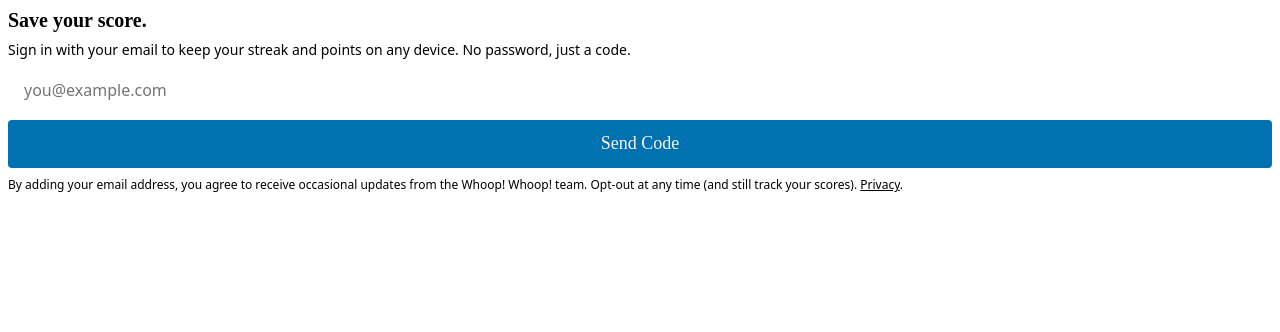
Test: optional sign-in › holds resend for 60 seconds, then sends another code through the same path
Later steps or results of the test are not shown.
Type "a@b.co" into the field named "Email address". click: (640, 90)
box: left=8, top=68, right=1272, bottom=112
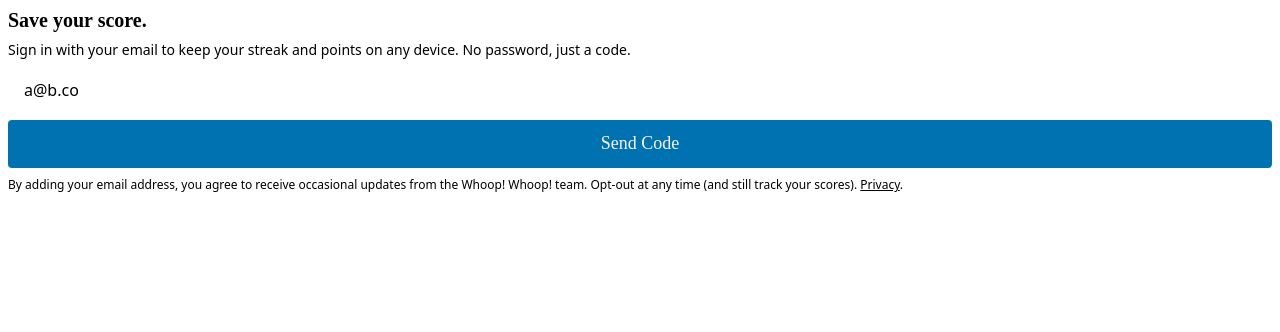
Click the button "Send Code". click: (640, 144)
box: left=8, top=120, right=1272, bottom=168
Wait 60000 ms
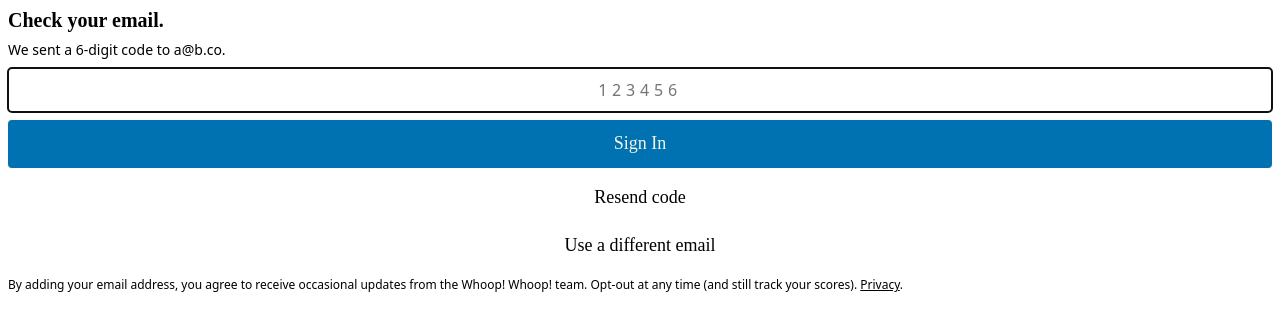
Click the button "Resend code". click: (640, 198)
box: left=584, top=176, right=696, bottom=220
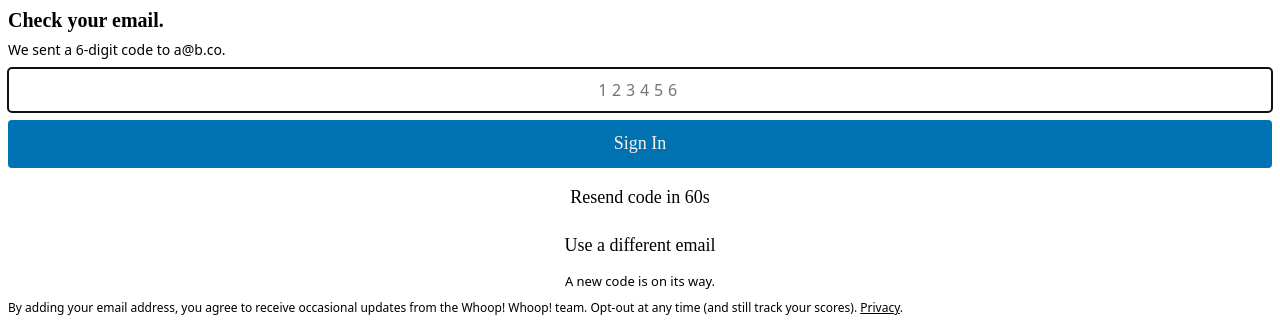
expect the message reads "A new code is on its way.": met, box left=565, top=272, right=715, bottom=290
expect the button "Resend code in 60s" is disabled: met, box left=560, top=176, right=720, bottom=220
